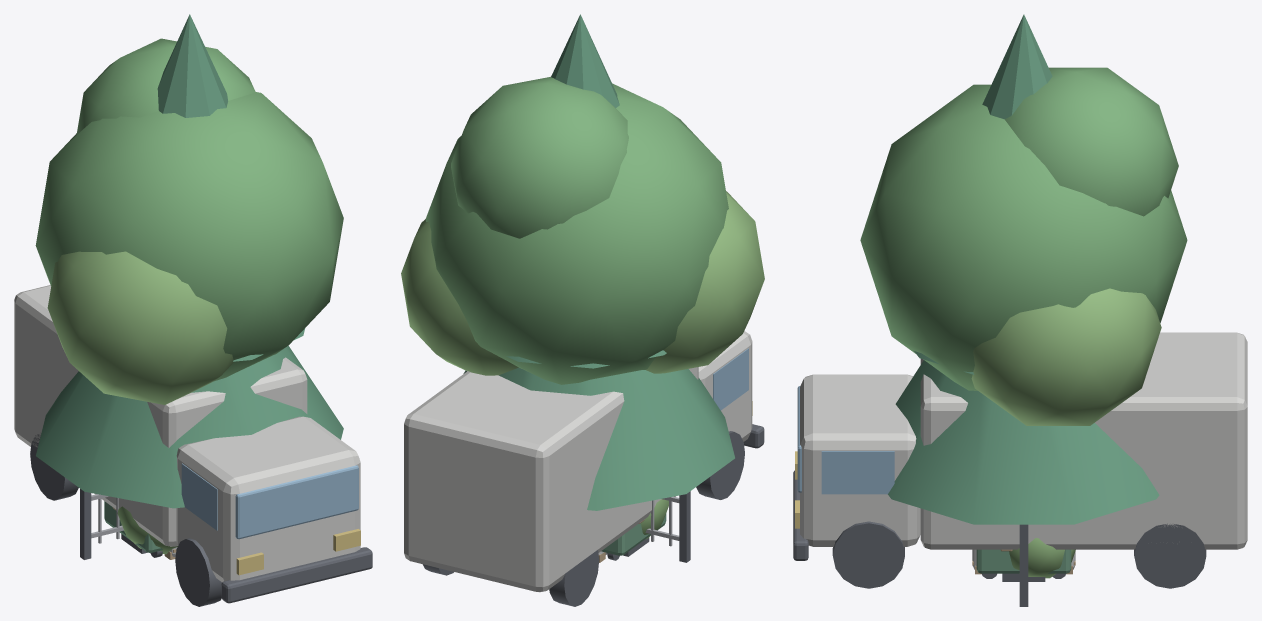
File: yard_props.glb
3 renders of one model, left to right at view 1: azimuth 30°, elevation 25°; view 2: azimuth 150°, elevation 25°; view 3: azimuth 270°, elevation 25°, orthographic. The views are drawn at different scales.
Visible parts, largest first — view 1: TreeRound, Van, TreePine, Fence, Bush, Dumpster; view 2: TreeRound, Van, TreePine, Fence, Dumpster; view 3: TreeRound, Van, TreePine, Bush, Dumpster, Fence.
Part boxes in pixels (x1=…): TreeRound: x1=35, y1=38, x2=343, y2=404; Van: x1=14, y1=285, x2=372, y2=606; TreePine: x1=36, y1=14, x2=343, y2=508; Fence: x1=80, y1=489, x2=123, y2=559; Bush: x1=117, y1=506, x2=177, y2=554; Dumpster: x1=104, y1=501, x2=162, y2=557; TreeRound: x1=401, y1=76, x2=764, y2=384; Van: x1=404, y1=331, x2=764, y2=606; TreePine: x1=463, y1=14, x2=734, y2=510; Fence: x1=645, y1=491, x2=690, y2=562; Dumpster: x1=601, y1=513, x2=666, y2=560; TreeRound: x1=860, y1=67, x2=1187, y2=425; Van: x1=793, y1=332, x2=1247, y2=588; TreePine: x1=888, y1=14, x2=1159, y2=524; Bush: x1=1009, y1=538, x2=1075, y2=578; Dumpster: x1=976, y1=549, x2=1071, y2=578; Fence: x1=1019, y1=524, x2=1028, y2=606.
Bounding box in the file's own units: 4.08 × 6.95 × 5.28.
